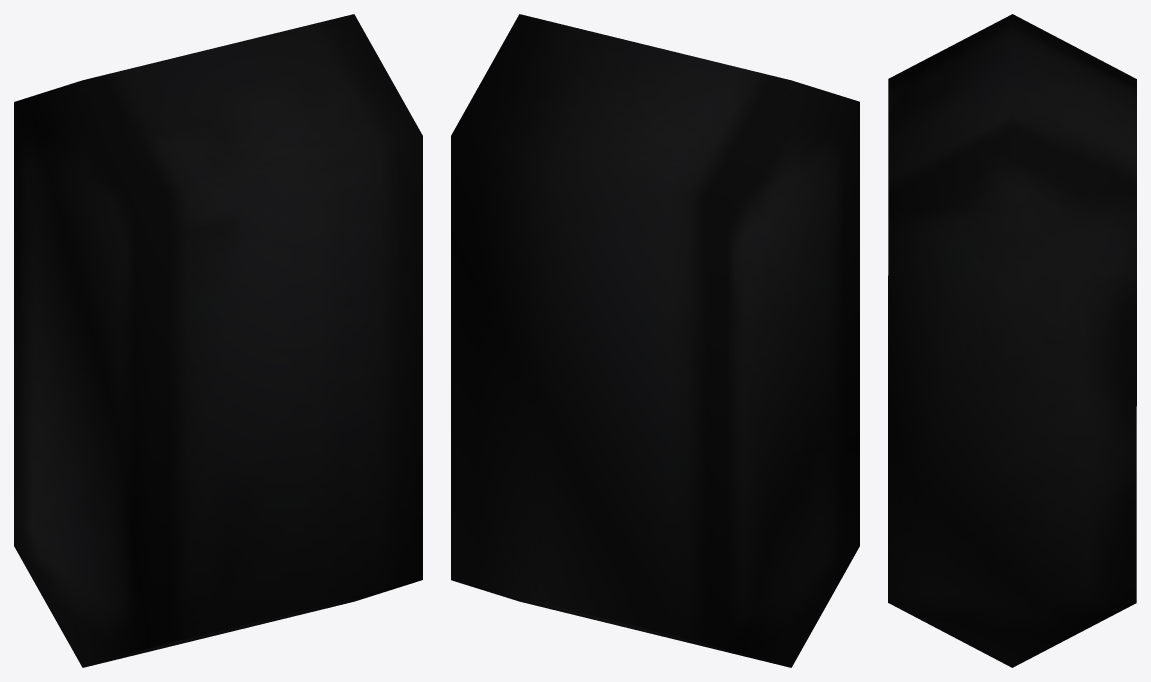
File: mtorso.DAE
The picture shows the model from 3 angles, left to right: view 1: azimuth 30°, elevation 25°; view 2: azimuth 150°, elevation 25°; view 3: azimuth 270°, elevation 25°; orthographic projection. The views are drawn at different scales.
Visible parts, largest first — view 1: mtorso; view 2: mtorso; view 3: mtorso.
Boxes of the visible parts, x1,y1,x2,y2 form: mtorso: (14,14,422,667); mtorso: (451,14,859,667); mtorso: (888,14,1136,667).
Size of the model in its own units: 0.0369 by 0.0322 by 0.0761.
1 material, 1 textured.
